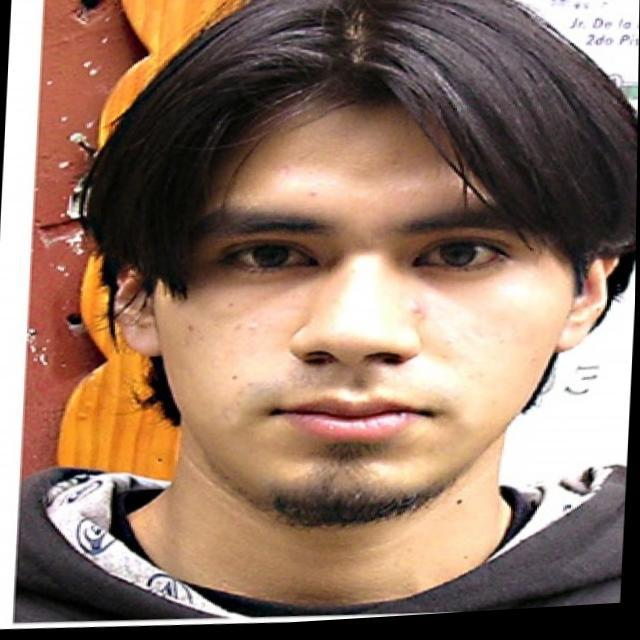Nonhelmet: (74, 0, 637, 530)
